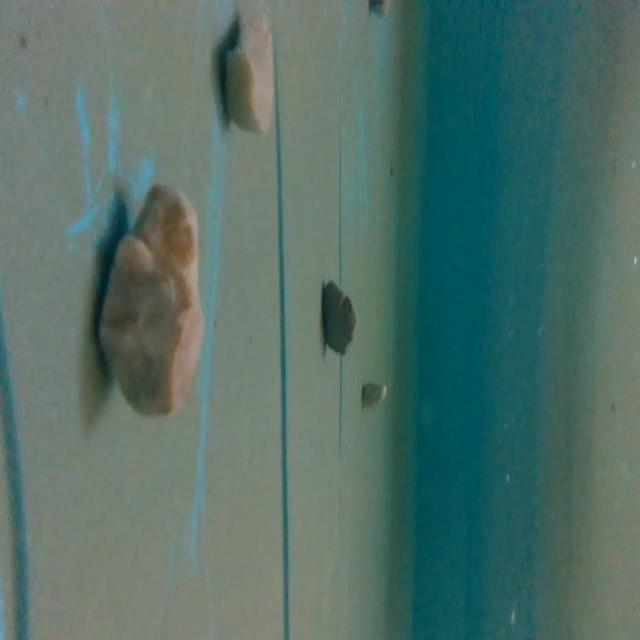rock: (94, 181, 209, 425), (220, 12, 279, 143), (318, 275, 357, 360), (358, 379, 391, 413)
